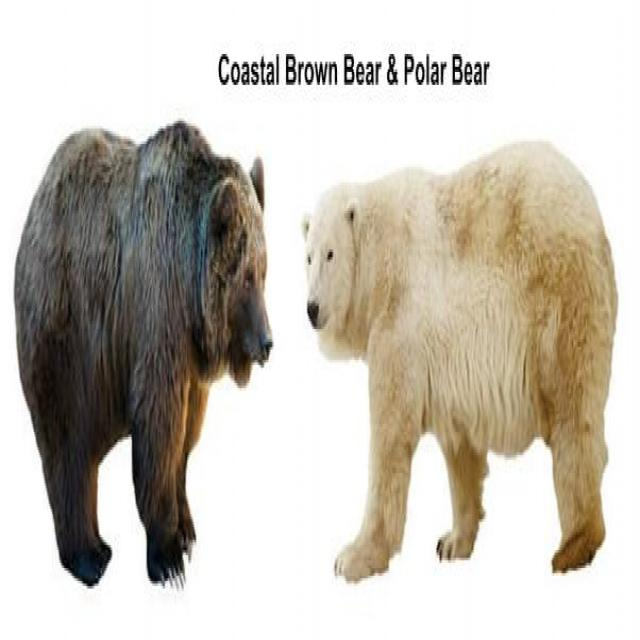Bear: (303, 139, 621, 586), (12, 121, 275, 591)
